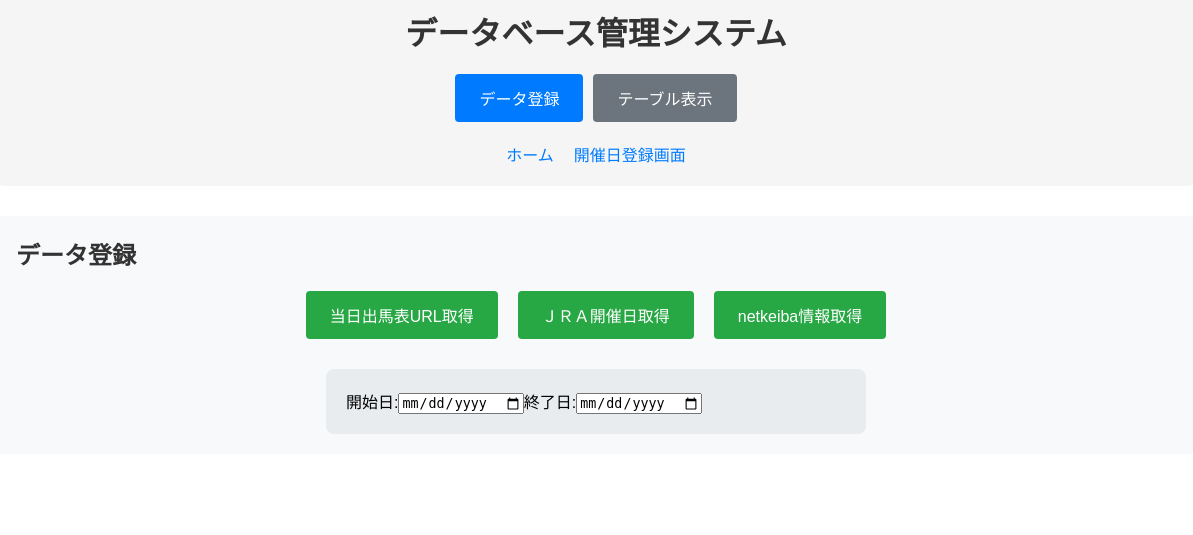
Test: table scrolling › fetching today's race-card URLs opens the URL table and clicking a link registers its previous runs
Click the button "当日出馬表URL取得" at {"x": 402, "y": 315}, box [306, 291, 498, 339]
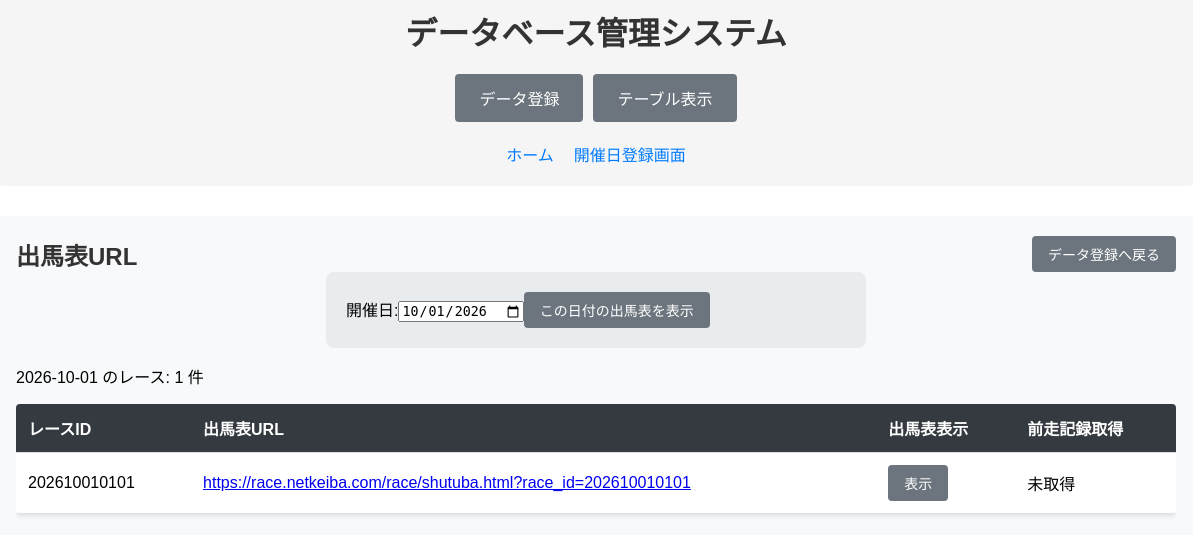
expect the heading "出馬表URL" is shown: met, box [16, 236, 137, 272]
expect the text "202610010101" is shown: met, box [16, 452, 191, 514]
Click the link "https://race.netkeiba.com/race/shutuba.html?race_id=202610010101" at {"x": 447, "y": 482}, box [203, 474, 691, 491]
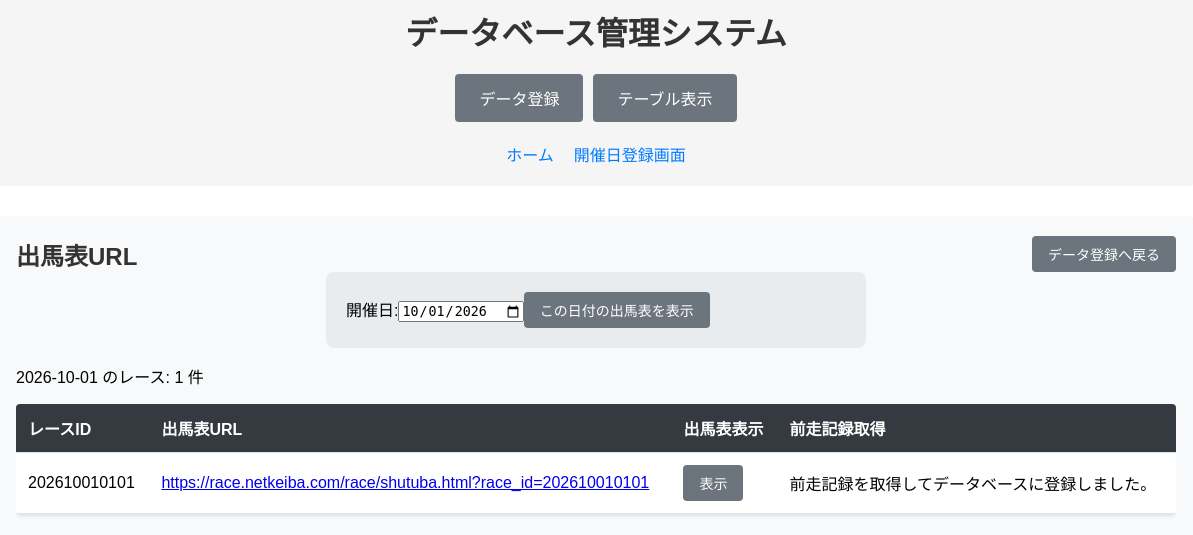
expect the text "前走記録を取得してデータベースに登録しました。" is shown: met, box [778, 452, 1176, 514]
